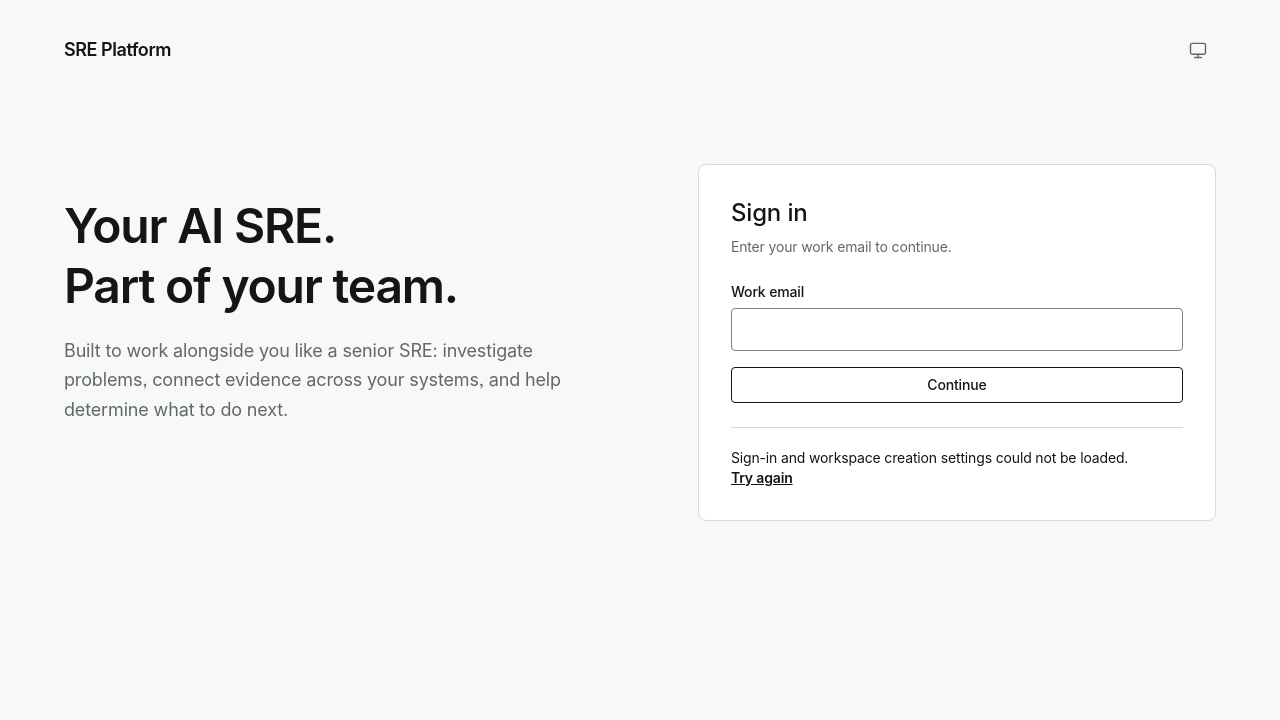
Test: retries unavailable configuration without advertising registration prematurely
This screenshot has width=1280, height=720.
Expected: the message "Sign-in and workspace creation settings could not be loaded. Try again" is shown, [731, 448, 1183, 488]
Expected: the link "Create a workspace" is not shown
What coordinates should you click on to do the following:
click the button "Try again"
I would click on:
 (762, 478)
Its box is [731, 468, 793, 488].
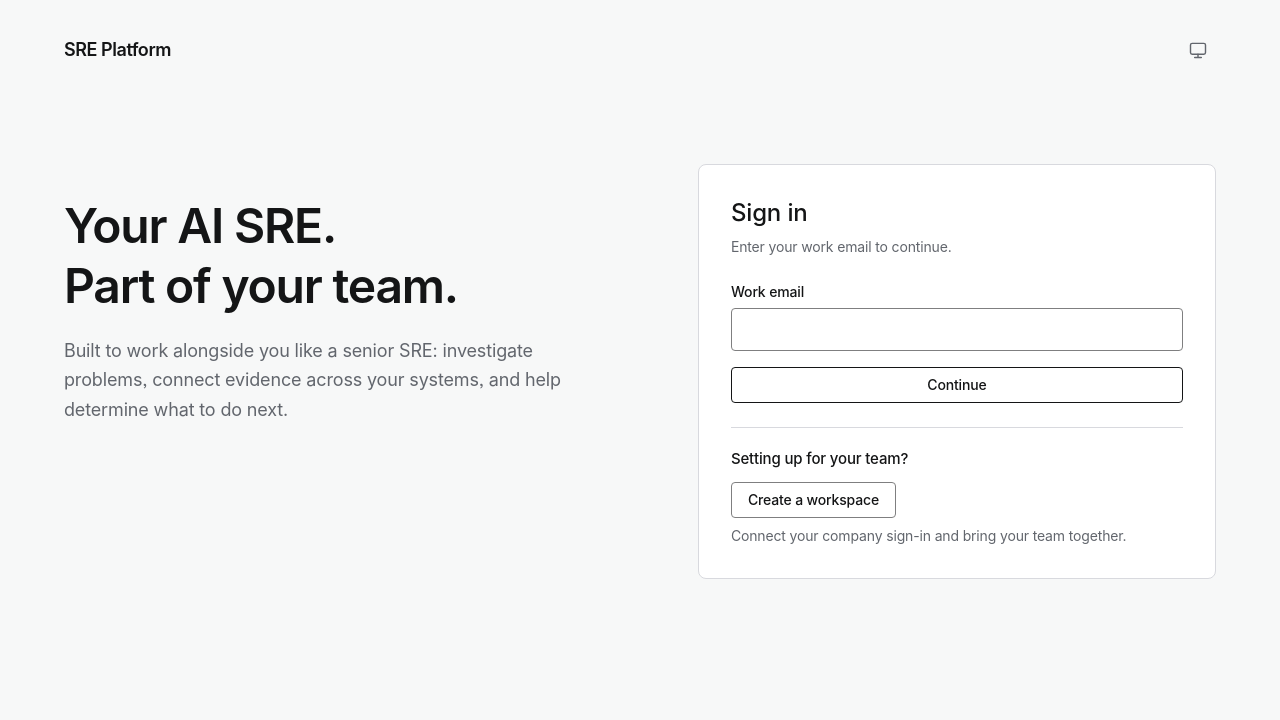
Now the link "Create a workspace" is shown, box [731, 482, 896, 518]
